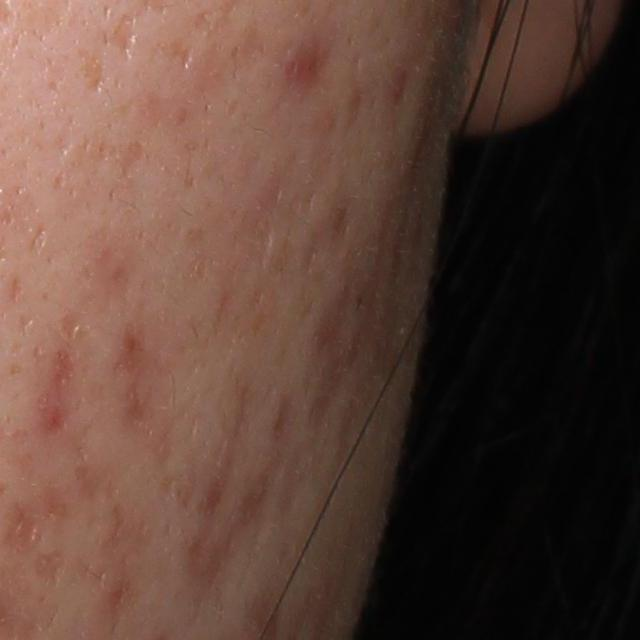atrophic_scar: (32, 549, 68, 590), (117, 138, 146, 182), (104, 12, 131, 56), (171, 39, 197, 72), (6, 270, 24, 306), (30, 224, 46, 257)
papule: (278, 26, 333, 117)
